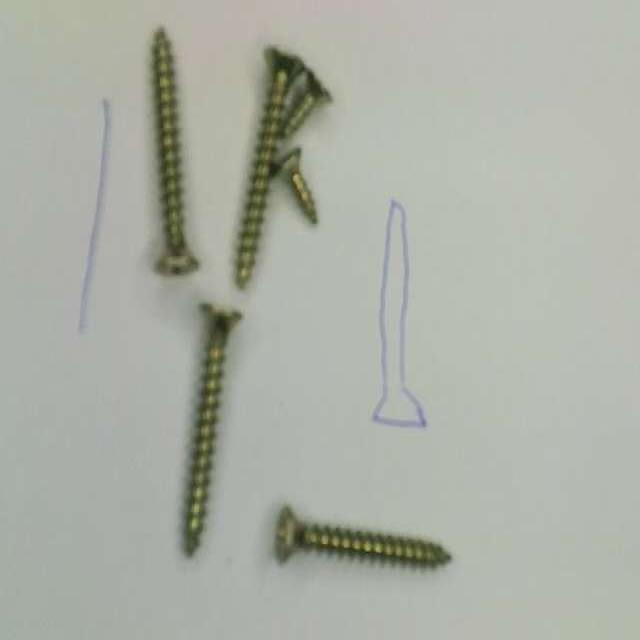Parafuso: (235, 47, 302, 287), (184, 304, 241, 555), (152, 28, 198, 274), (275, 506, 450, 567), (280, 68, 331, 139), (270, 148, 317, 225)
